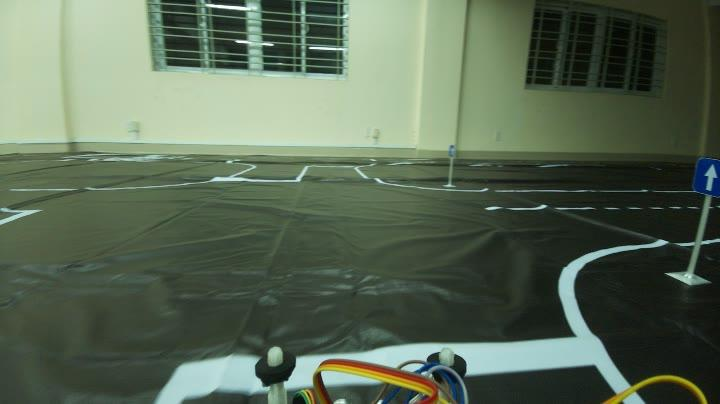onewayroad: (691, 154, 718, 196), (448, 144, 458, 154)
